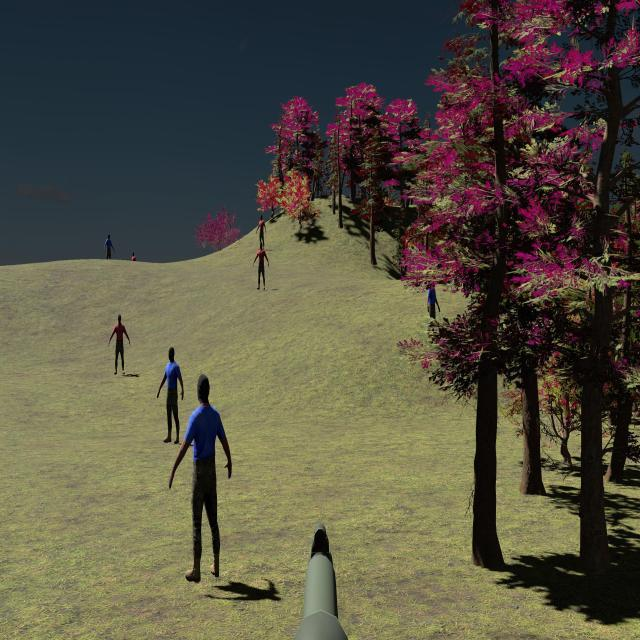Human: (169, 373, 232, 582), (157, 346, 184, 444), (109, 314, 130, 375)
